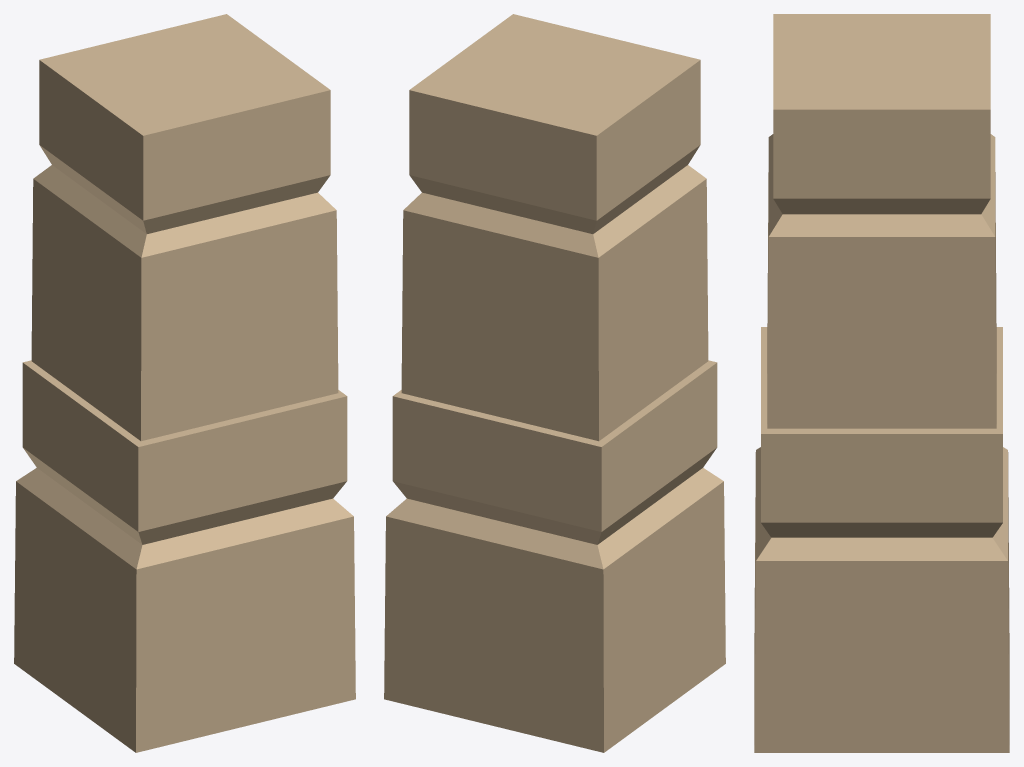
File: egypt_wallend.fbx
3 views of the same model, side by side, from view 1: azimuth 30°, elevation 25°; view 2: azimuth 150°, elevation 25°; view 3: azimuth 270°, elevation 25° (orthographic). The views are drawn at different scales.
Visible parts, largest first — view 1: wallend; view 2: wallend; view 3: wallend.
Part boxes in pixels (left/top/right/bottom): wallend: left=14, top=14, right=355, bottom=752; wallend: left=384, top=14, right=725, bottom=752; wallend: left=754, top=14, right=1009, bottom=752.
Size of the model in its own units: 2.05 by 5.39 by 1.96.
